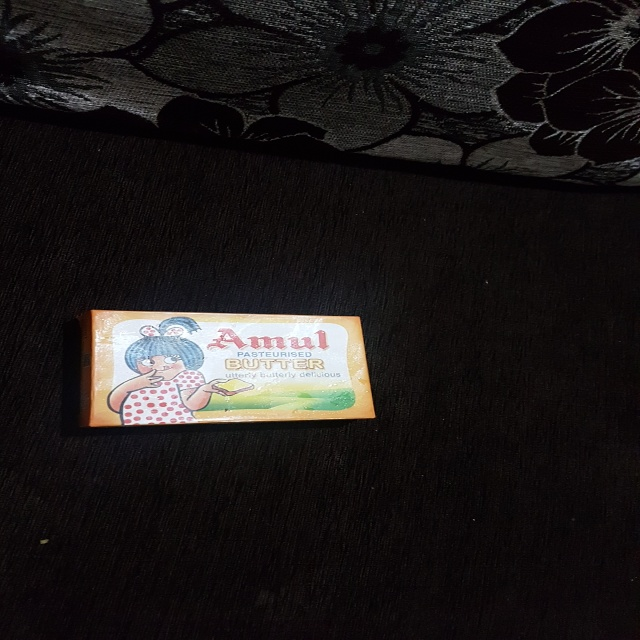butter: (84, 306, 379, 432)
